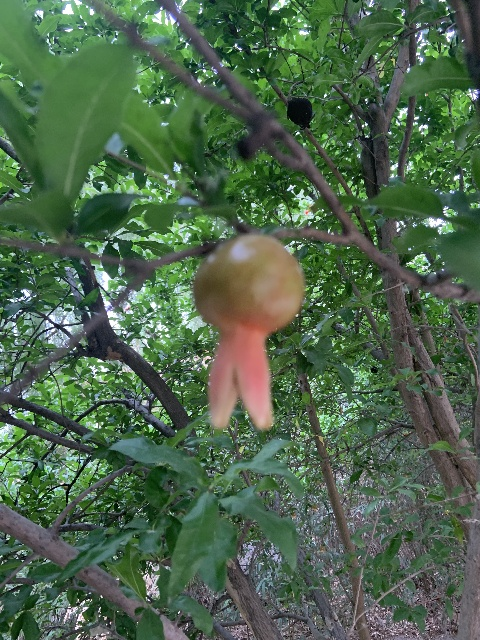early-fruit: (193, 234, 304, 430)
